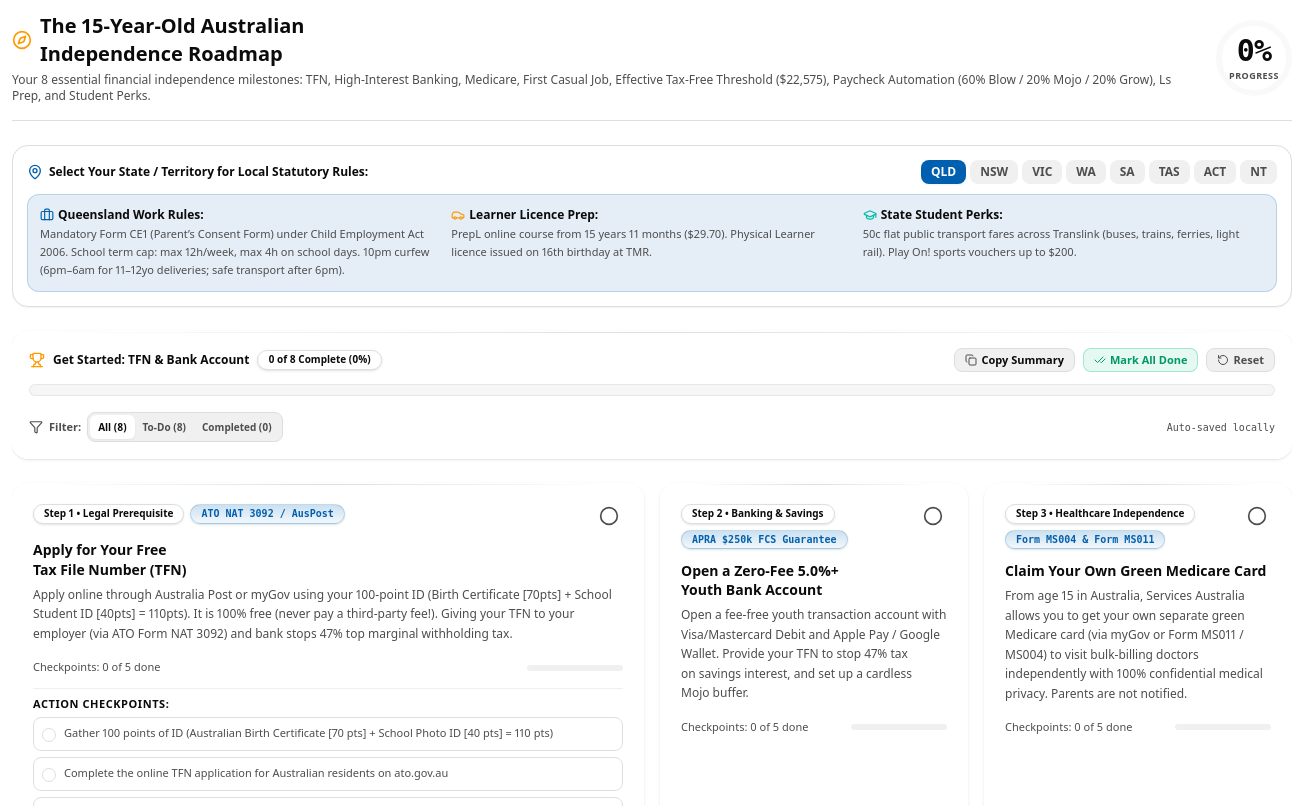
Test: FifteenYearOldRoadmap Component › allows state selection and updates statutory advice for QLD, NSW and VIC
expect the text "Mandatory Form CE1" is shown: met, box [40,226,429,277]
expect the text "PrepL online course from 15 years 11 months" is shown: met, box [451,226,815,259]
Note: Switch to NSW
What coordinates should you click on to do the following:
click the button "NSW"
I would click on:
 (994, 172)
Its box is [970,160,1018,184].
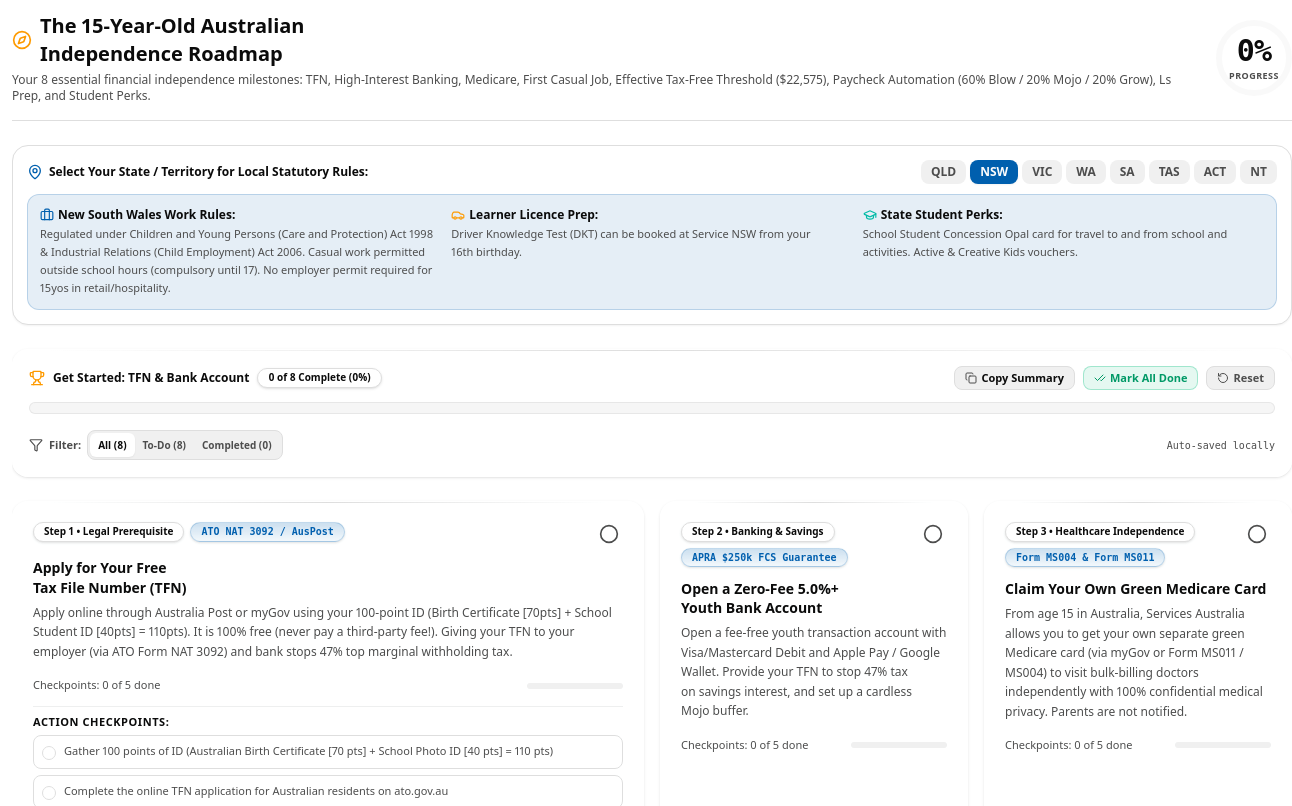
expect the text "Driver Knowledge Test (DKT) can be booked at Service NSW" is shown: met, box [451,226,811,259]
expect the text "School Student Concession Opal card" is shown: met, box [863,226,1227,259]
Note: Switch to VIC
What coordinates should you click on to do the following:
click the button "VIC"
I would click on:
 (1042, 172)
Its box is [1022,160,1062,184].
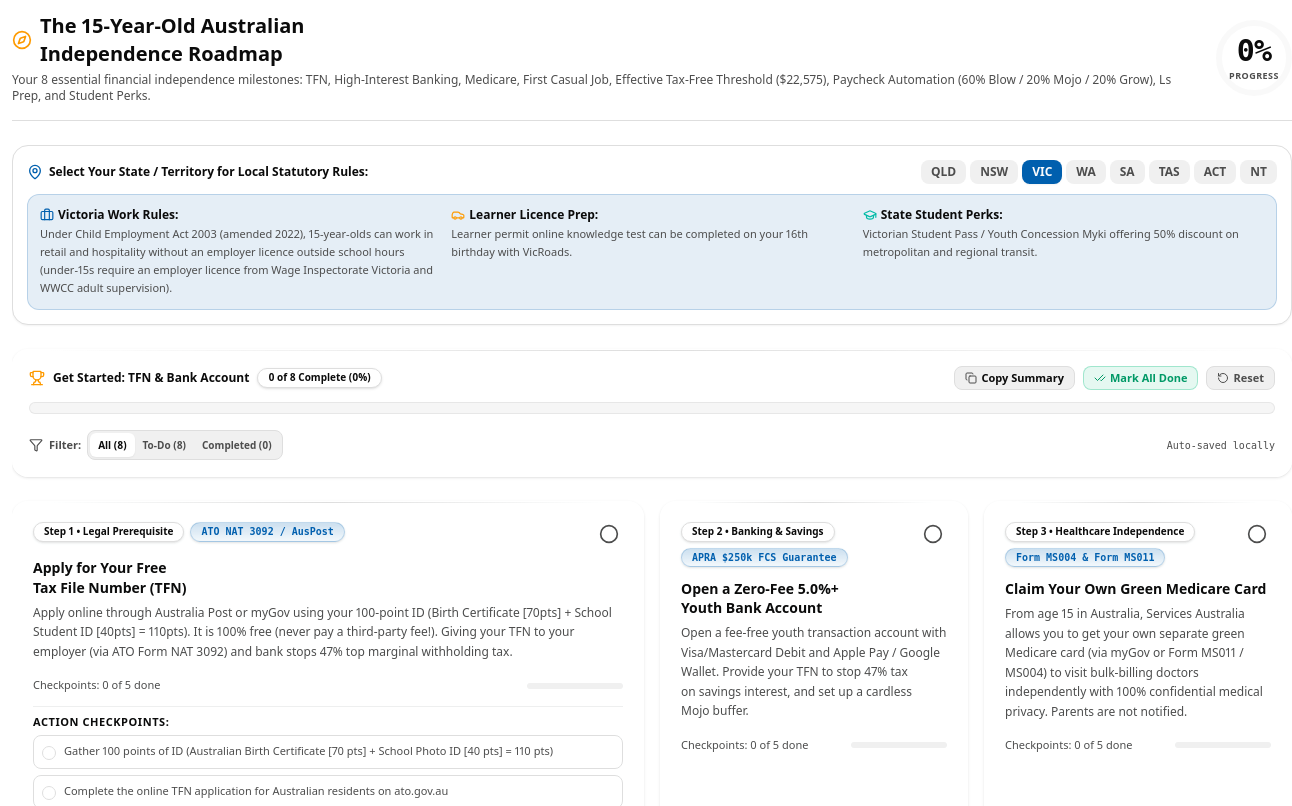
expect the text "Child Employment Act 2003" is shown: met, box [40,226,433,295]
